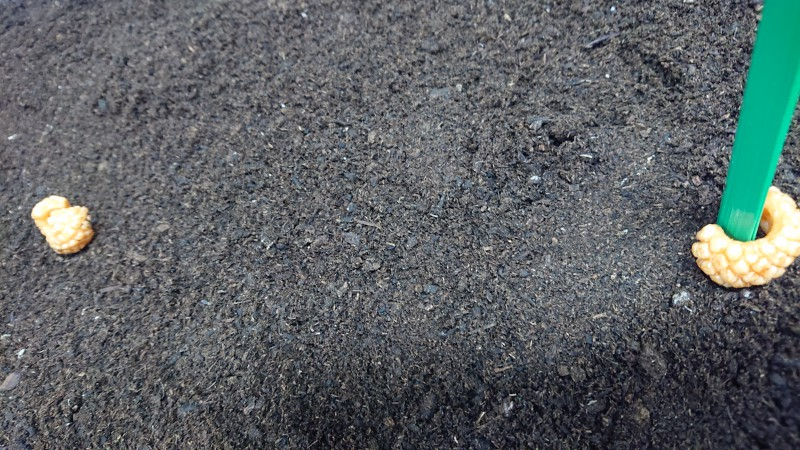eggs: (686, 180, 800, 291), (28, 192, 96, 255)
